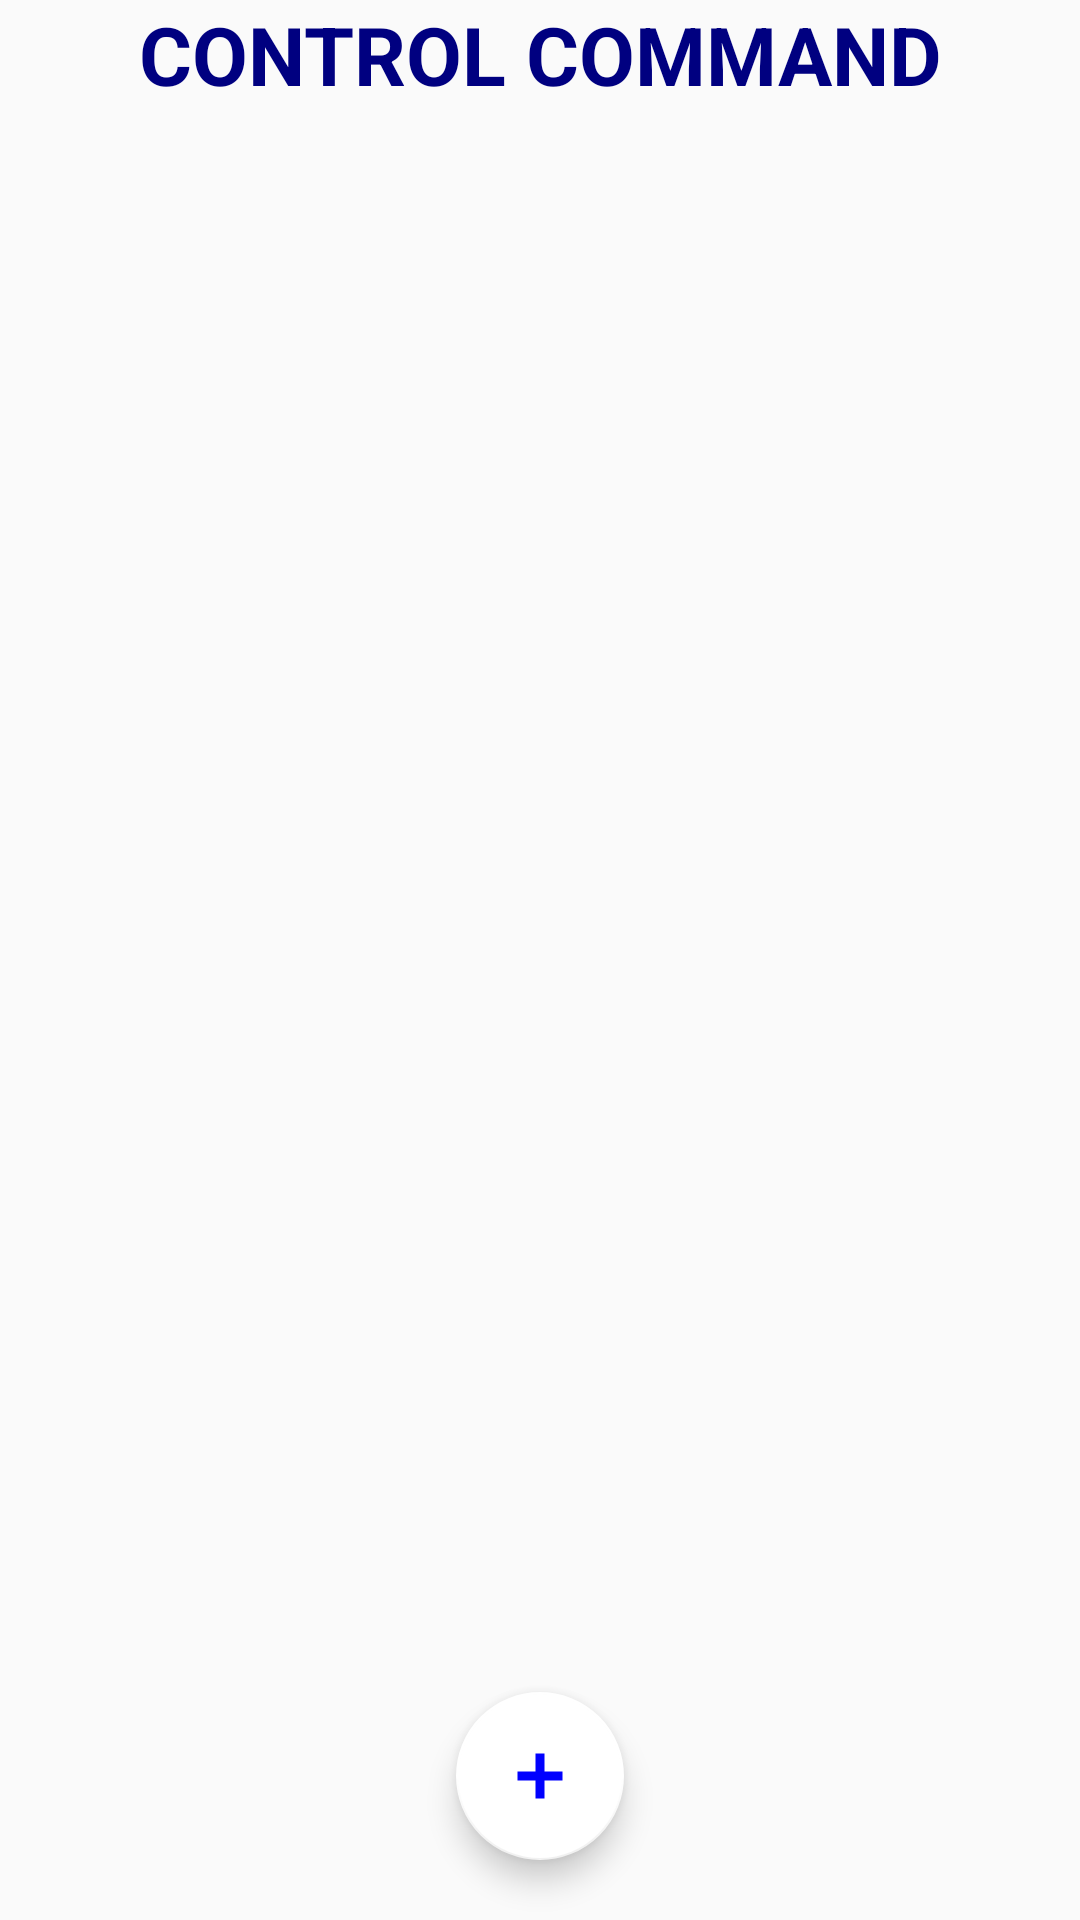

Named icons in this screenshot (1080px×1920px) and their bounding boxes, (x1, y1, x2, y2):
add: (456, 1753, 624, 1860)
